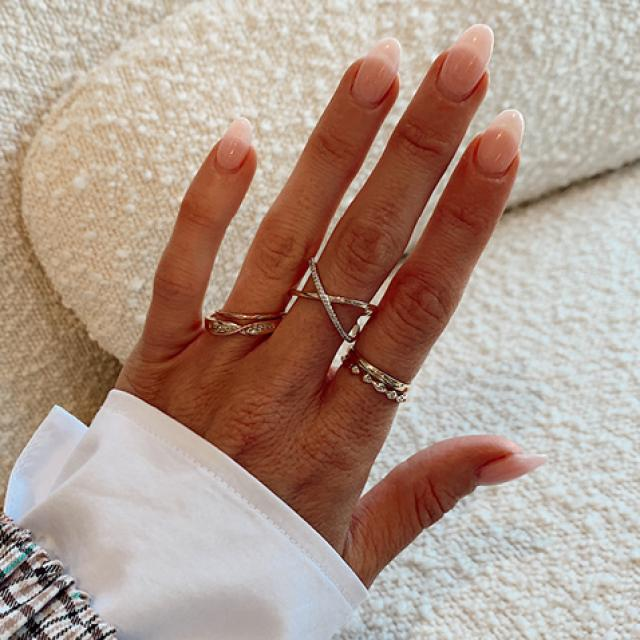Ring: (299, 251, 380, 350), (329, 338, 431, 410), (192, 286, 290, 349)
